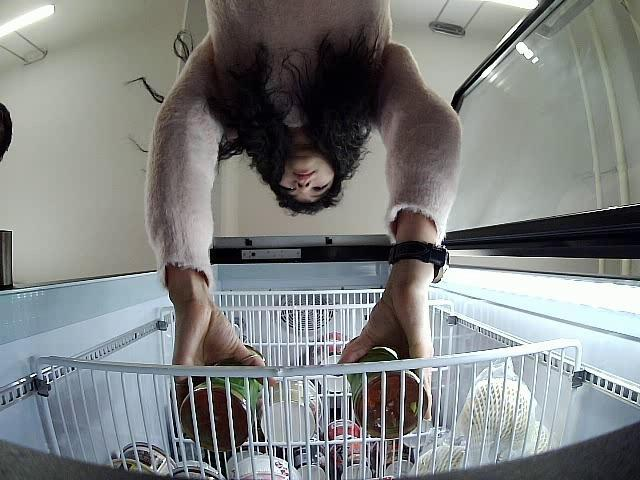19_17cha: (176, 342, 268, 451), (347, 348, 428, 439)
